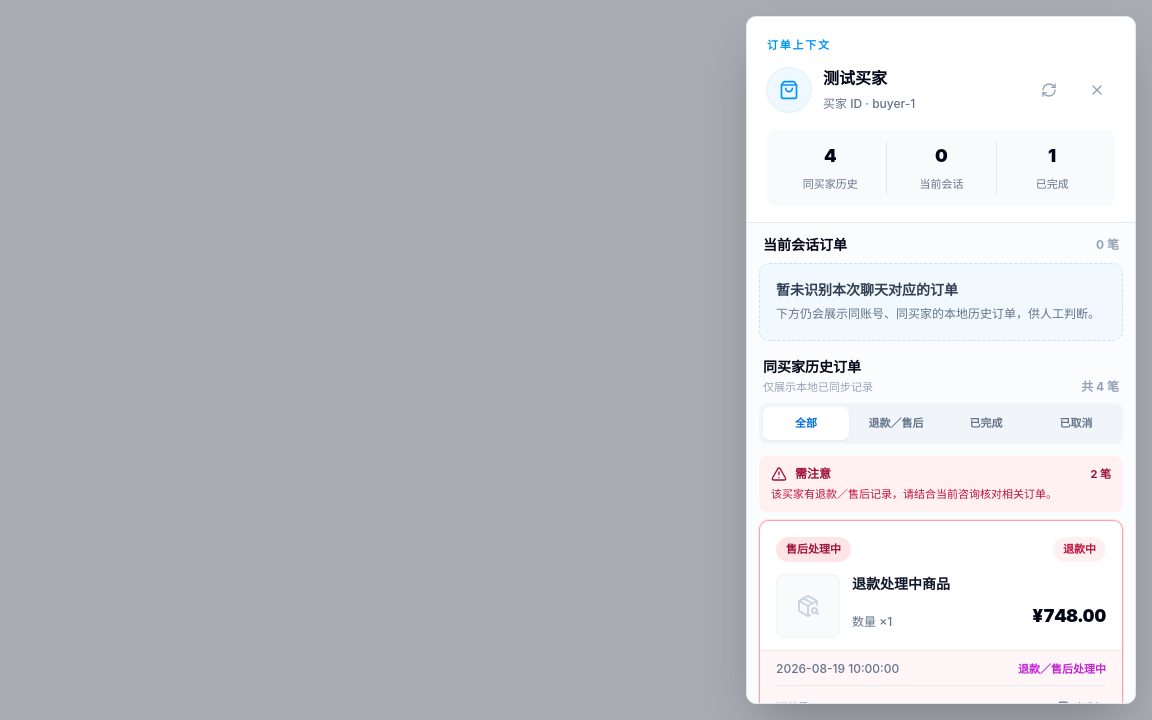
Test case: ConversationOrderPreviewPanel › 默认展示全部并把退款售后分组前置
Check: the element that starts with "售后处理中" shows "退款处理中商品", box [852,574,950,592]
Click the button "退款／售后": x=896, y=423 [853,407,939,440]
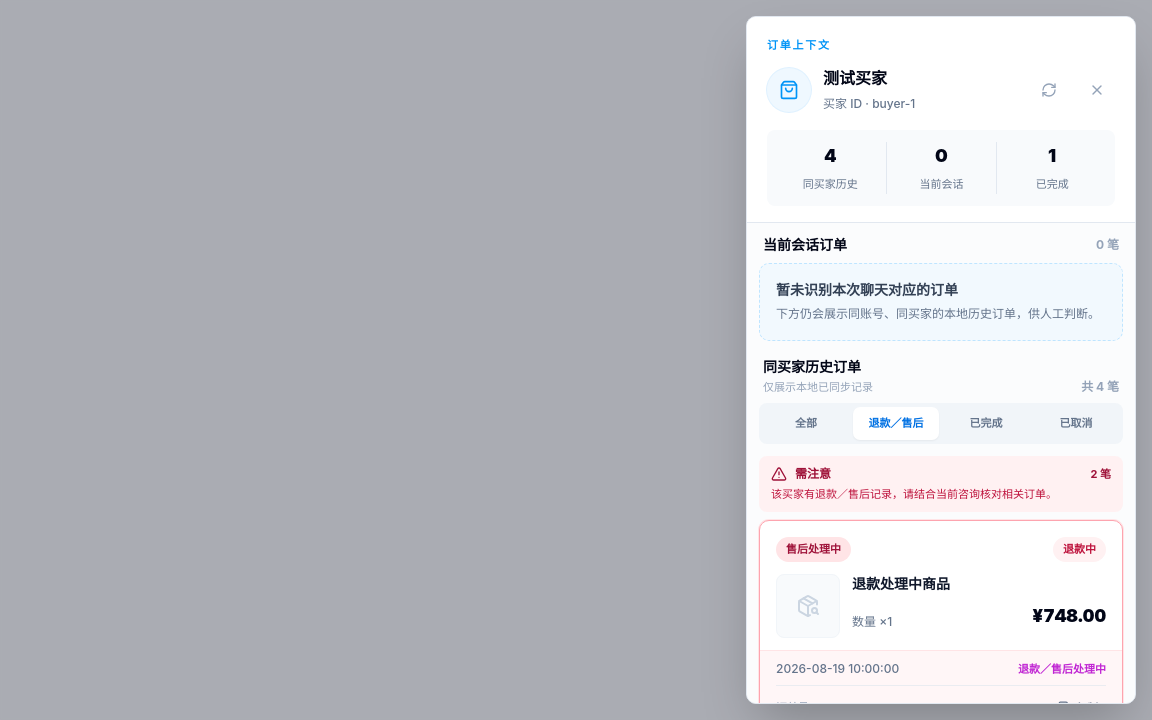
Check: the heading "退款处理中商品" is shown, box [852,574,950,592]
Check: the text "正常完成商品" is not shown
Click the button "已完成": x=986, y=423 [943,407,1029,440]
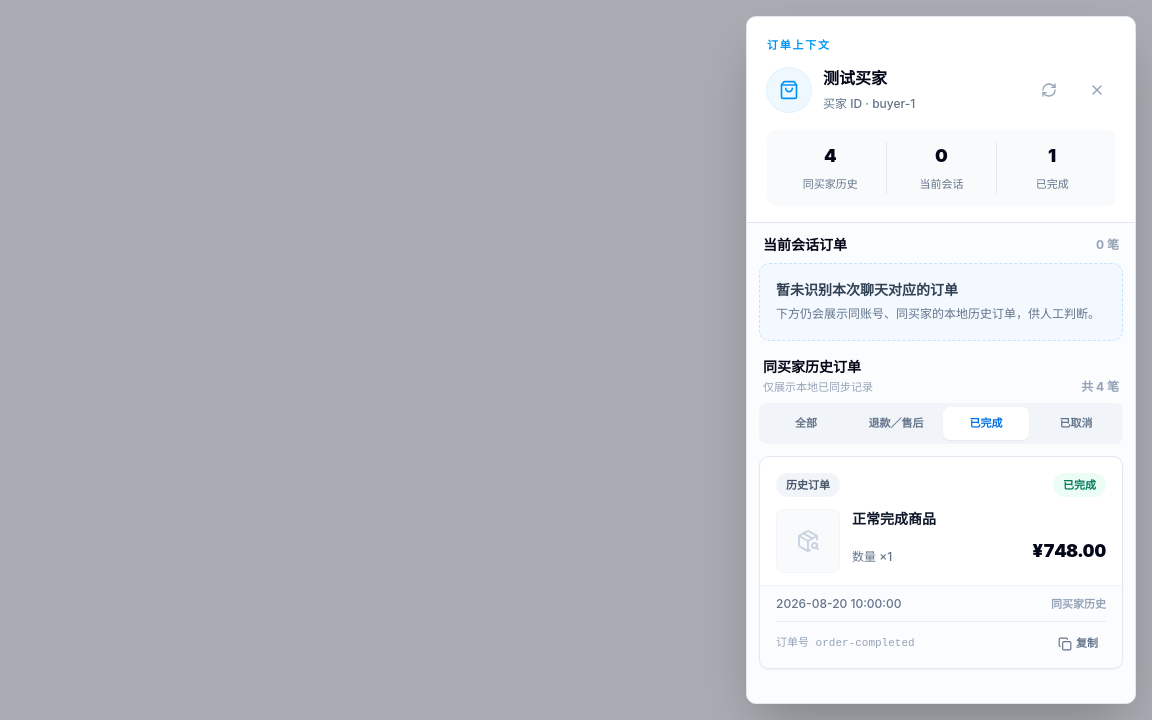
Check: the text "历史退款商品" is not shown
Check: the heading "正常完成商品" is shown, box [852,510,936,527]
Click the button "已取消": x=1076, y=423 [1033,407,1119,440]
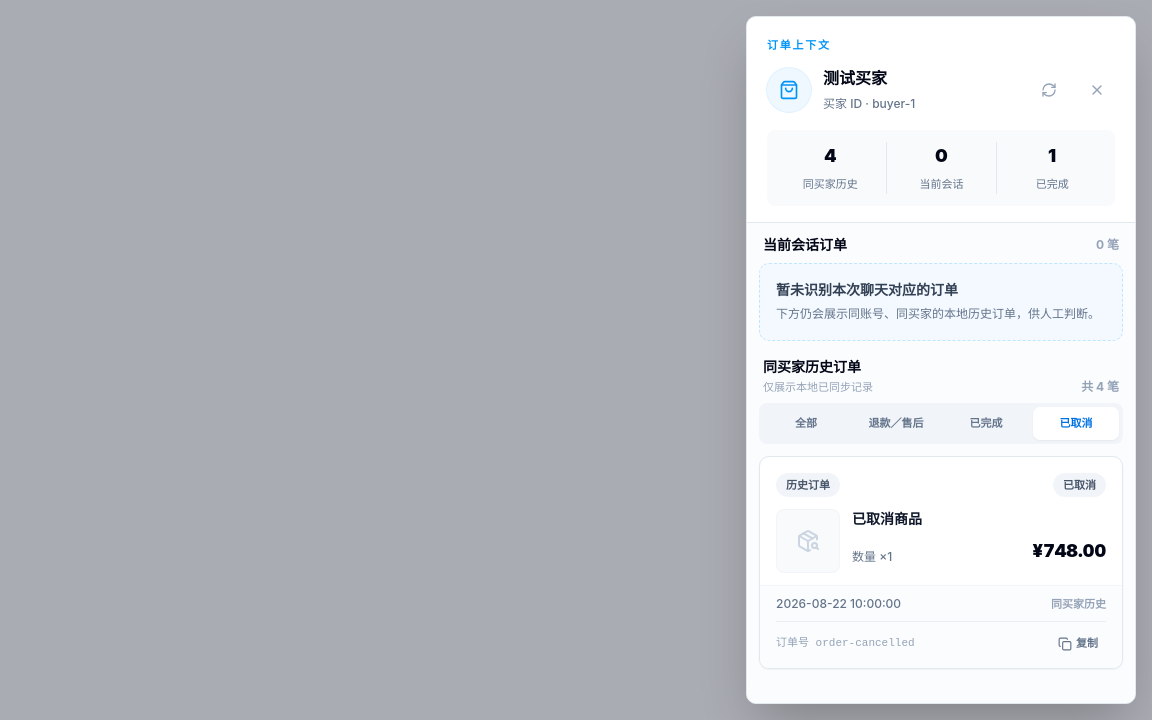
Check: the heading "已取消商品" is shown, box [852,510,922,527]
Check: the heading "正常完成商品" is gone
Click the button "全部": x=806, y=423 [763,407,849,440]
(page scrolled)
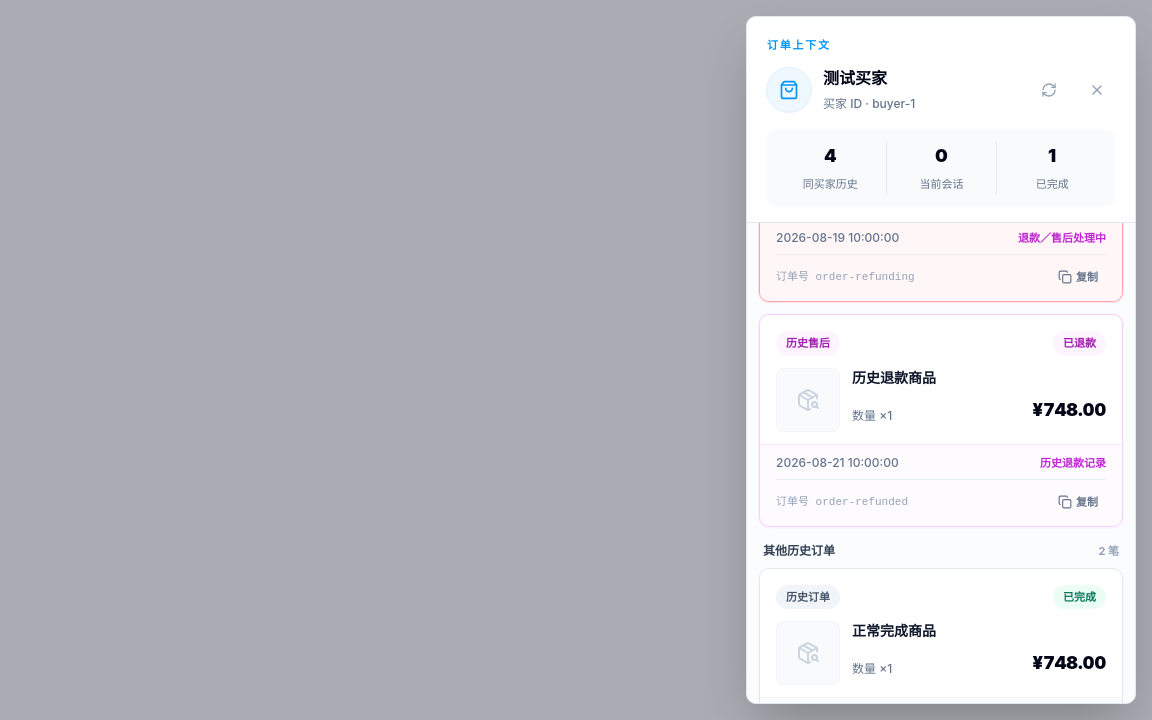
Check: the text "历史退款记录" is shown, box [1040,454,1106,471]
